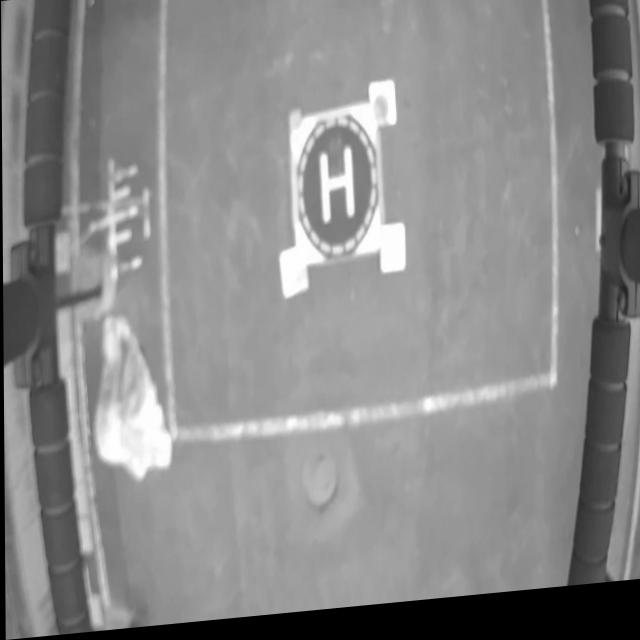Helipad: (319, 150, 354, 229)
